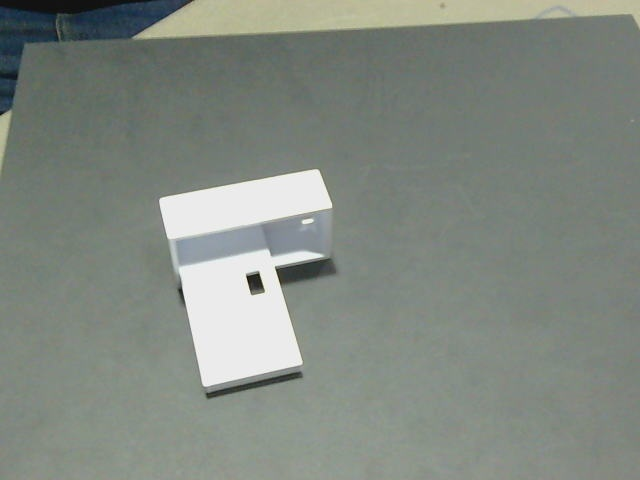enclosure_good: (176, 249, 319, 386), (160, 170, 332, 242)
